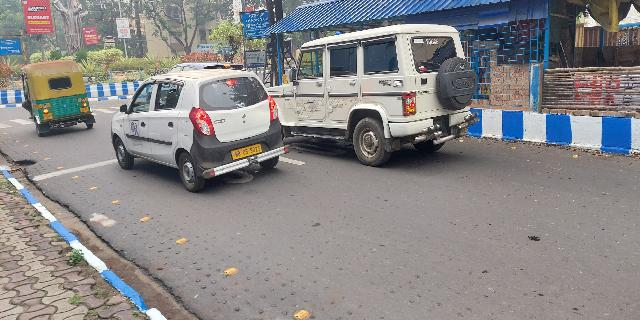Autorickshaw: (19, 58, 95, 129)
Car: (256, 22, 478, 153), (110, 69, 289, 189)
